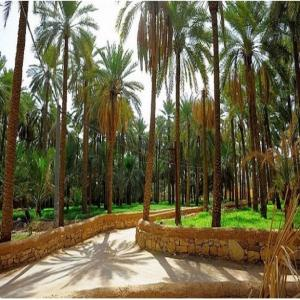palm tree: (33, 0, 99, 227), (156, 0, 213, 225), (115, 0, 173, 221), (222, 1, 268, 212), (90, 40, 144, 213)
